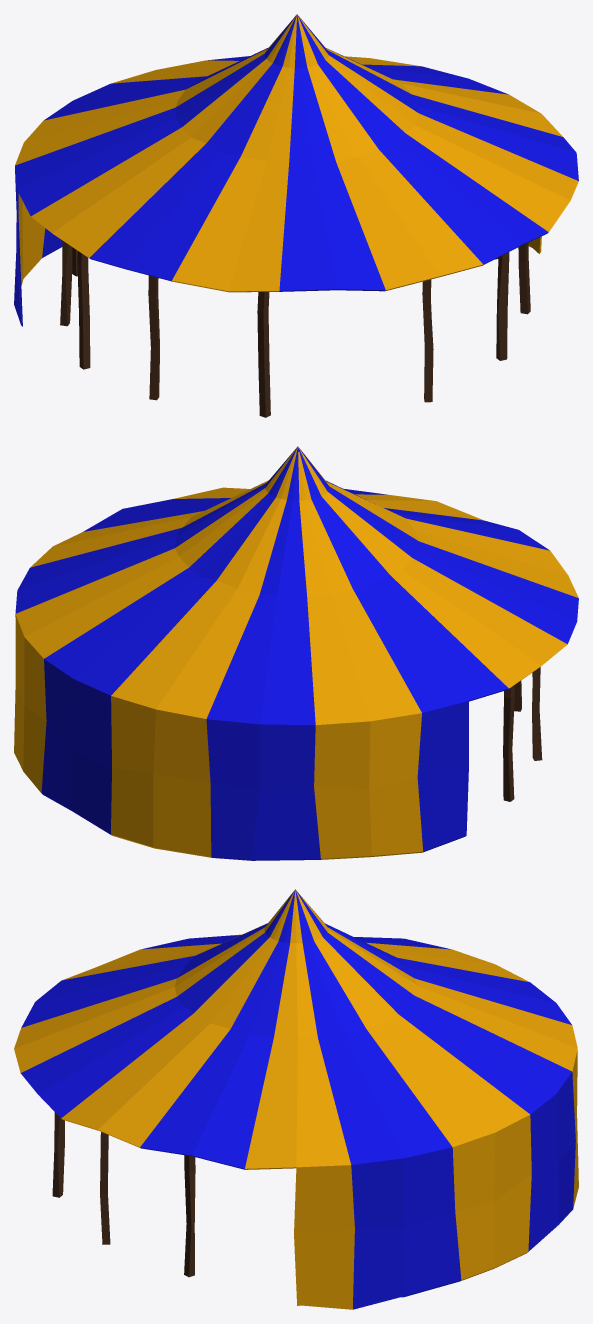
Rendered from carnival_tent1.fbx.
The picture shows the model from 3 angles, top to bottom: view 1: azimuth 30°, elevation 25°; view 2: azimuth 150°, elevation 25°; view 3: azimuth 270°, elevation 25°; orthographic projection.
Visible parts, largest first — view 1: Tent, Tent.001, Cube.002, Cube, Cube.001, Cube.005, Cube.003, Cube.007, Cube.004; view 2: Tent, Tent.001, Cube, Cube.001; view 3: Tent, Tent.001, Cube.004, Cube.005, Cube.003.
Boxes of the visible parts, x1,y1,x2,y2 form: Tent: [15, 14, 578, 292]; Tent.001: [14, 170, 541, 326]; Cube.002: [257, 292, 270, 417]; Cube: [77, 251, 90, 369]; Cube.001: [148, 275, 159, 400]; Cube.005: [496, 252, 509, 360]; Cube.003: [422, 279, 433, 402]; Cube.007: [60, 240, 72, 326]; Cube.004: [518, 242, 530, 314]; Tent: [15, 446, 578, 725]; Tent.001: [14, 614, 468, 860]; Cube: [503, 685, 514, 801]; Cube.001: [532, 667, 542, 760]; Tent: [14, 889, 577, 1169]; Tent.001: [294, 1050, 578, 1309]; Cube.004: [184, 1155, 195, 1277]; Cube.005: [100, 1132, 110, 1244]; Cube.003: [52, 1112, 64, 1197].
Size of the model in its own units: 335 by 198 by 335.
